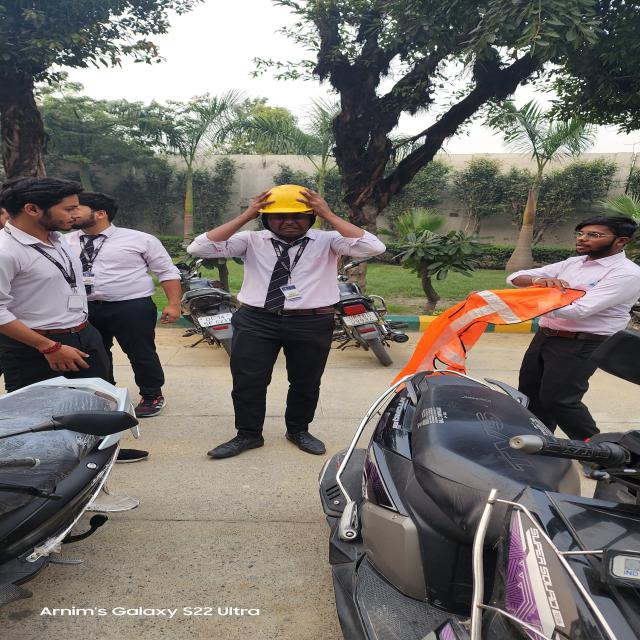no jacket: (190, 183, 376, 458)
unsafe: (508, 215, 640, 469), (1, 181, 111, 456), (63, 194, 184, 414)
